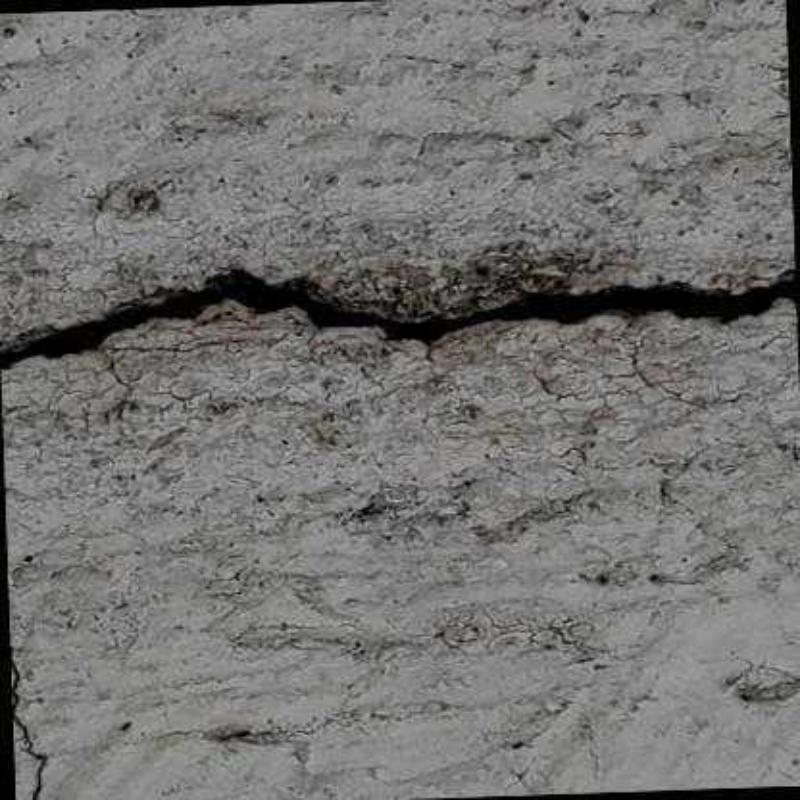crack: (0, 269, 797, 368), (8, 658, 46, 798)
